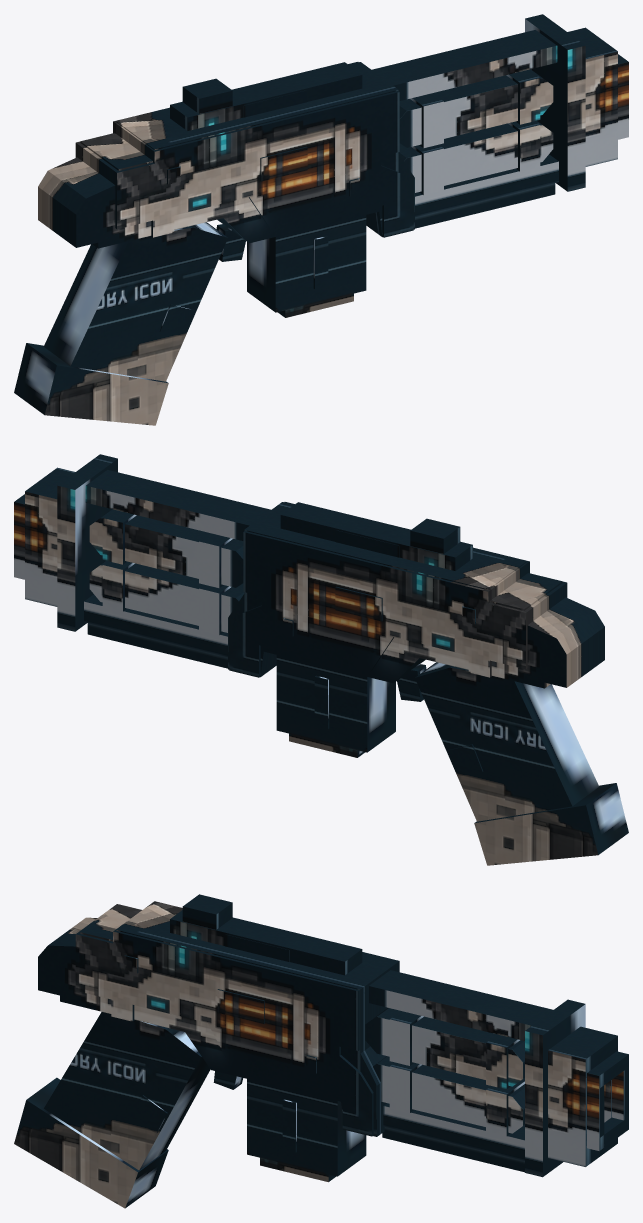
File: coil_pistol.obj
3 renders of one model, top to bottom at view 1: azimuth 30°, elevation 25°; view 2: azimuth 150°, elevation 25°; view 3: azimuth 330°, elevation 25°, orthographic.
Bounding box in the file's own units: 2 × 1.01 × 0.2594.
